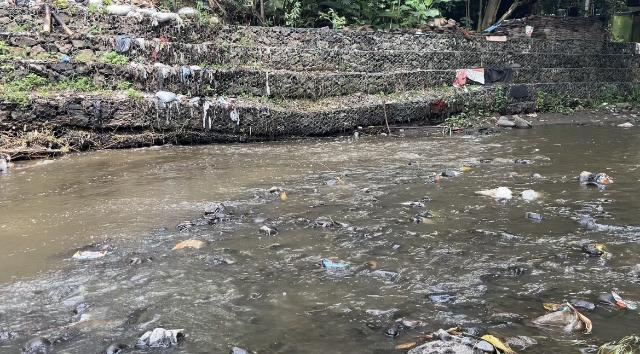Sampah Anorganik: (532, 303, 597, 335), (572, 169, 615, 186), (62, 249, 111, 262), (317, 258, 355, 273), (612, 294, 639, 310), (472, 188, 512, 198), (520, 190, 542, 201), (399, 200, 426, 208), (458, 165, 473, 171), (359, 189, 369, 194)
Sampah Organik: (412, 325, 520, 354), (167, 236, 203, 250), (417, 210, 440, 224), (592, 242, 607, 255), (320, 222, 333, 228), (365, 261, 376, 268), (279, 194, 288, 200), (336, 177, 343, 184), (435, 174, 439, 181)
